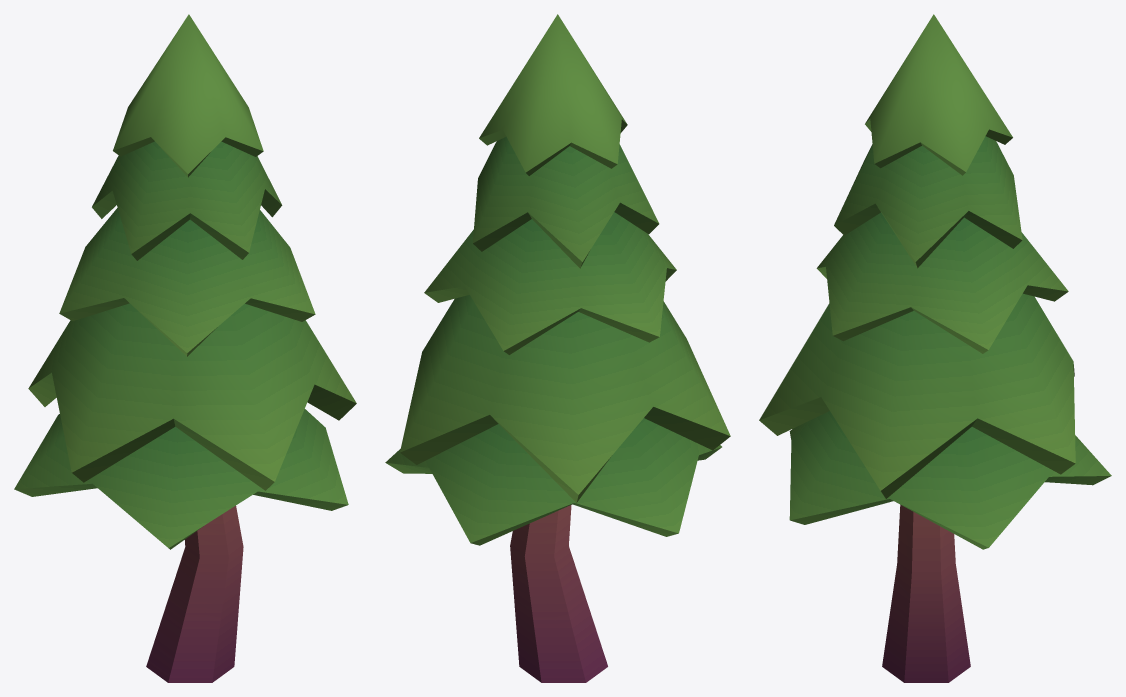
Rendered from TreePine5.fbx.
3 renders of one model, left to right at view 1: azimuth 30°, elevation 25°; view 2: azimuth 150°, elevation 25°; view 3: azimuth 270°, elevation 25°, orthographic.
Parts seen in each view (by area): view 1: Cylinder.004; view 2: Cylinder.004; view 3: Cylinder.004.
Part boxes in pixels (x1=…): Cylinder.004: x1=14, y1=14, x2=356, y2=682; Cylinder.004: x1=385, y1=14, x2=730, y2=682; Cylinder.004: x1=759, y1=14, x2=1111, y2=682.
Size of the model in its own units: 241 by 514 by 251.
